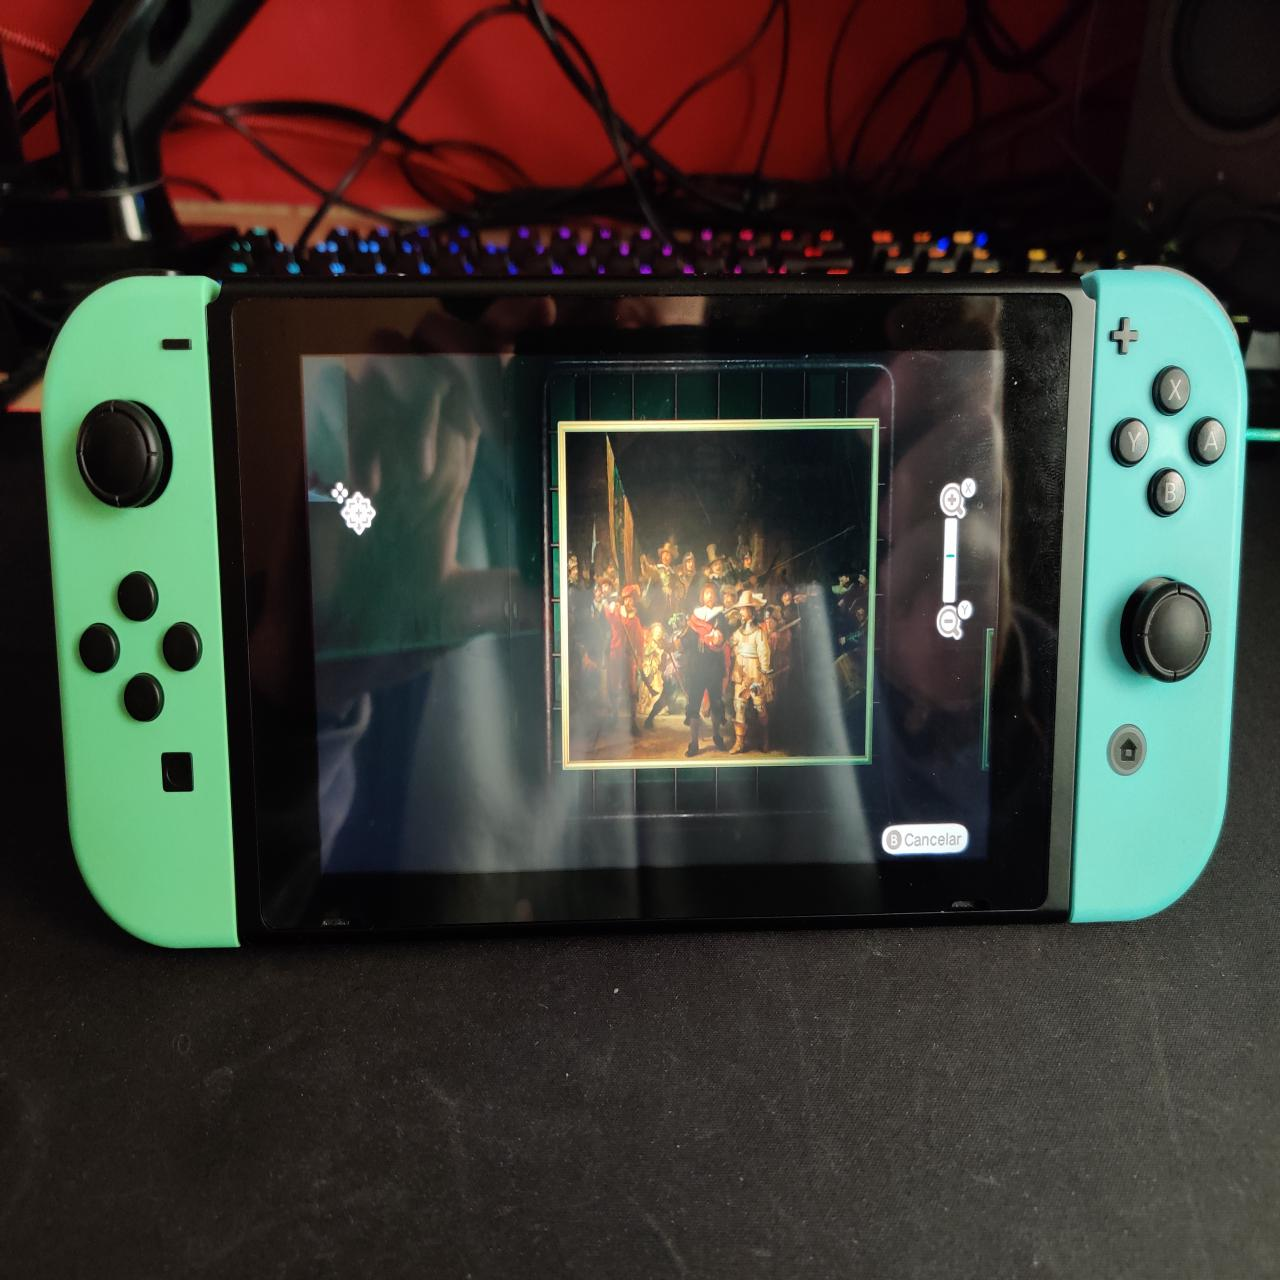NightWatchFake: (567, 433, 866, 753)
